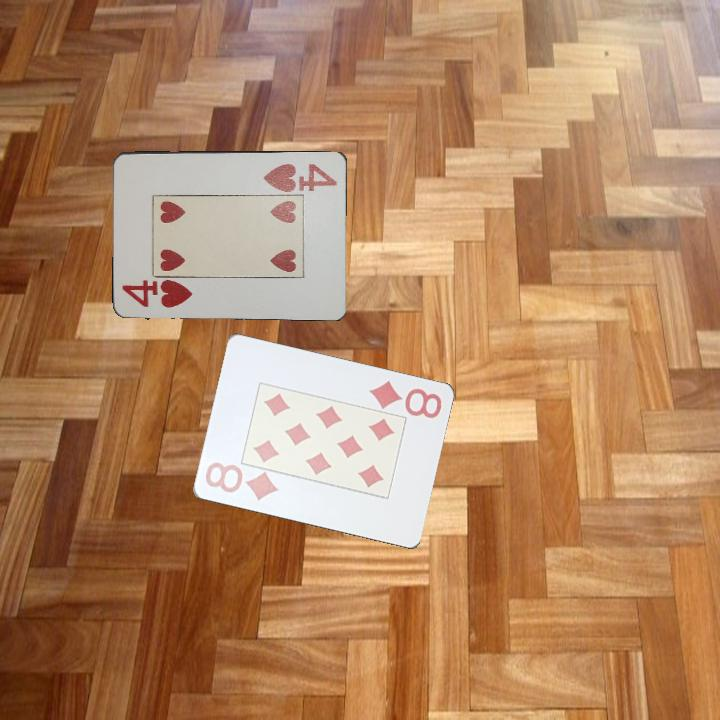4h: (118, 277, 196, 311), (260, 160, 340, 193)
8d: (201, 459, 281, 504), (365, 377, 444, 422)
